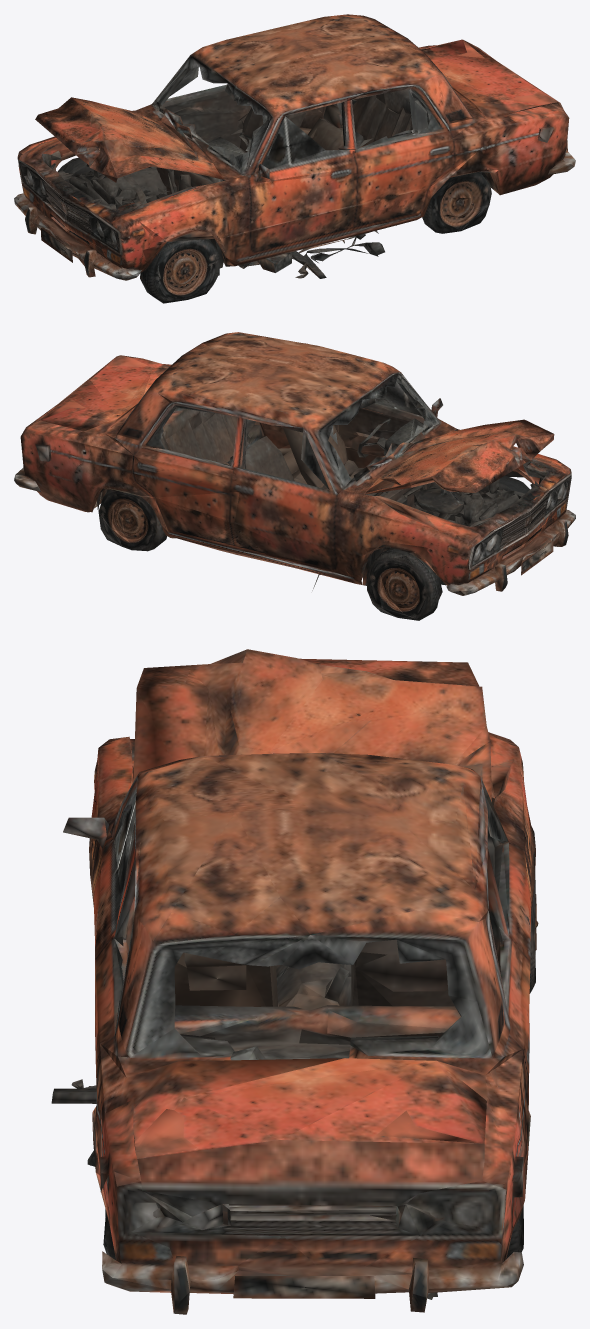
The model's file is WreckedCar.fbx.
3 views of the same model, one above another, from view 1: azimuth 30°, elevation 25°; view 2: azimuth 150°, elevation 25°; view 3: azimuth 270°, elevation 25° (orthographic). The views are drawn at different scales.
Parts seen in each view (by area): view 1: Mesh_0; view 2: Mesh_0; view 3: Mesh_0.
Part boxes in pixels (box(x1,y1,x2,y2)): Mesh_0: box(14, 14, 575, 303); Mesh_0: box(14, 332, 575, 620); Mesh_0: box(51, 649, 538, 1314).
Bounding box in the file's own units: 190 × 63.94 × 83.17.
Materials: 1 (1 with a texture image).
